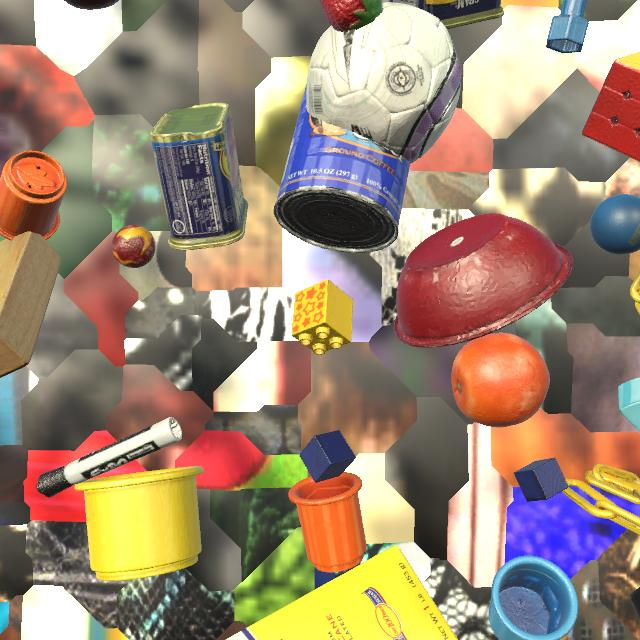ycb_002_master_chef_can: (273, 84, 411, 253)
ycb_004_sugar_box: (226, 544, 458, 640)
ycb_010_potted_meat_can: (150, 103, 248, 250), (389, 0, 504, 29)
ycb_012_strawberry: (319, 0, 383, 32)
ycb_017_orange: (451, 333, 550, 427)
ycb_018_plum: (64, 0, 119, 10)
